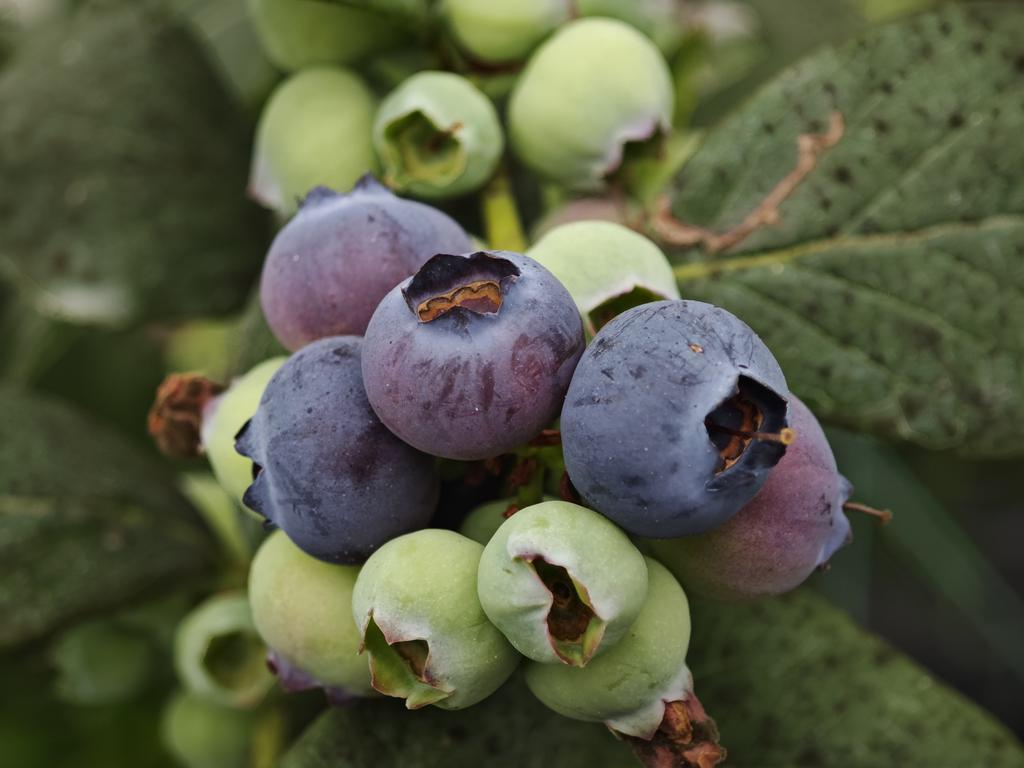RipeBlueBerry: (557, 294, 795, 543), (235, 330, 450, 567)
Semi-RipeBlueBerry: (355, 244, 587, 468)
